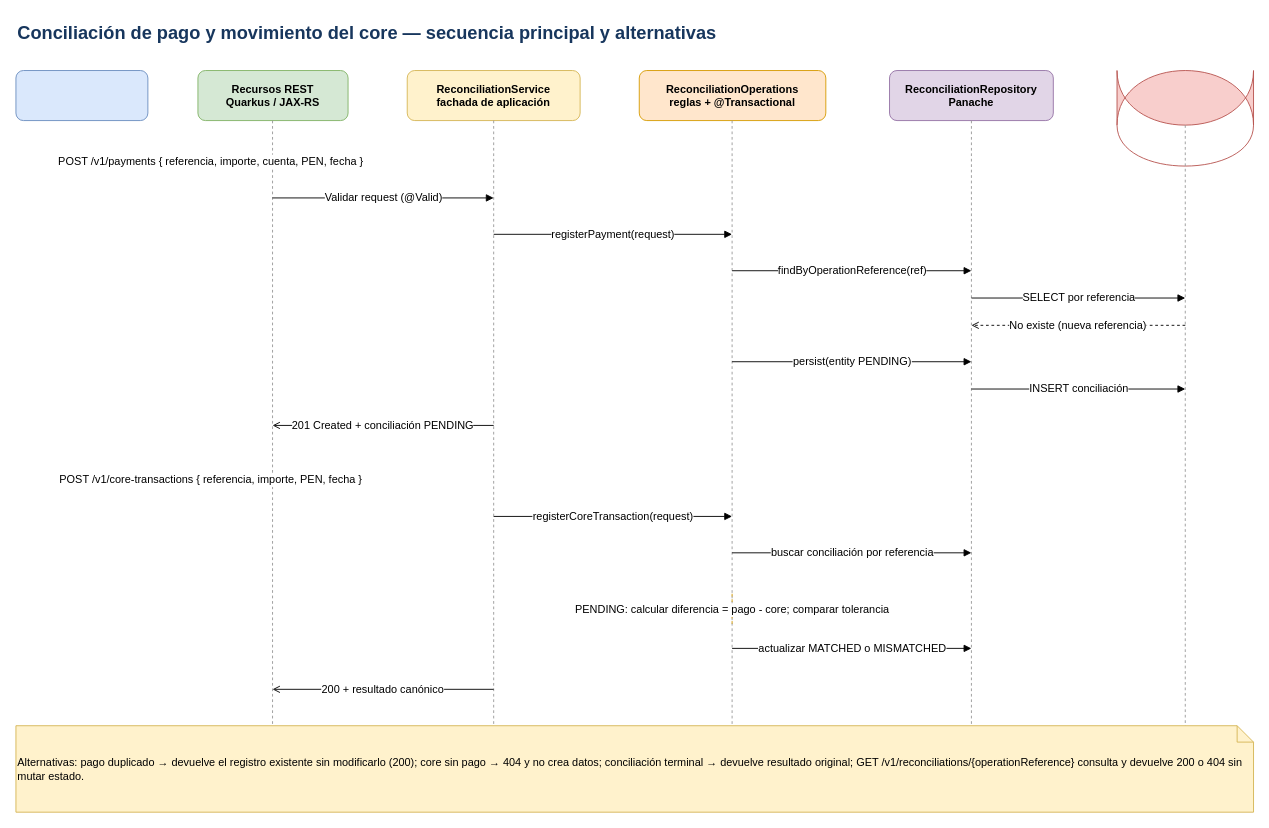
Some shapes in this 1269 by 828 pixel diagram are drawn without their labels. The centre of each missing label's shape, as x and y in pixels:
"Cliente (sistema externo)" goes at point (81, 95).
"H2 reconciliation" goes at point (1185, 97).
